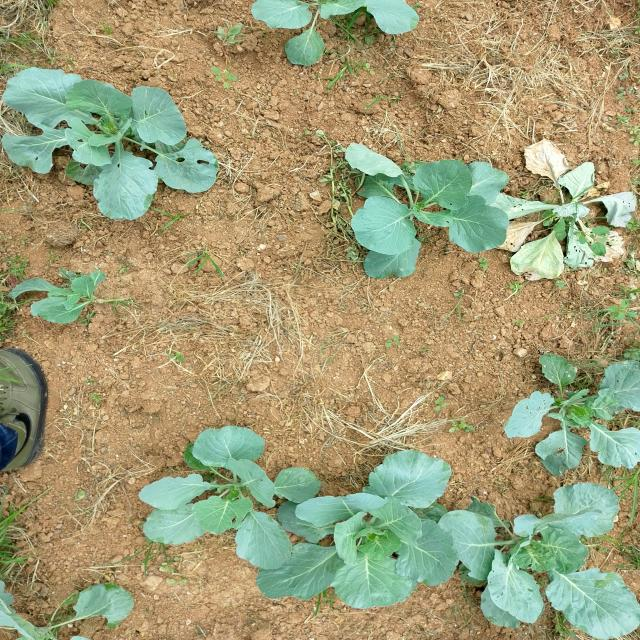Cabbage: (0, 48, 225, 233), (133, 409, 315, 634), (300, 452, 510, 621), (341, 121, 525, 285), (465, 472, 640, 640), (500, 338, 640, 482), (244, 0, 416, 79), (0, 274, 142, 324)
